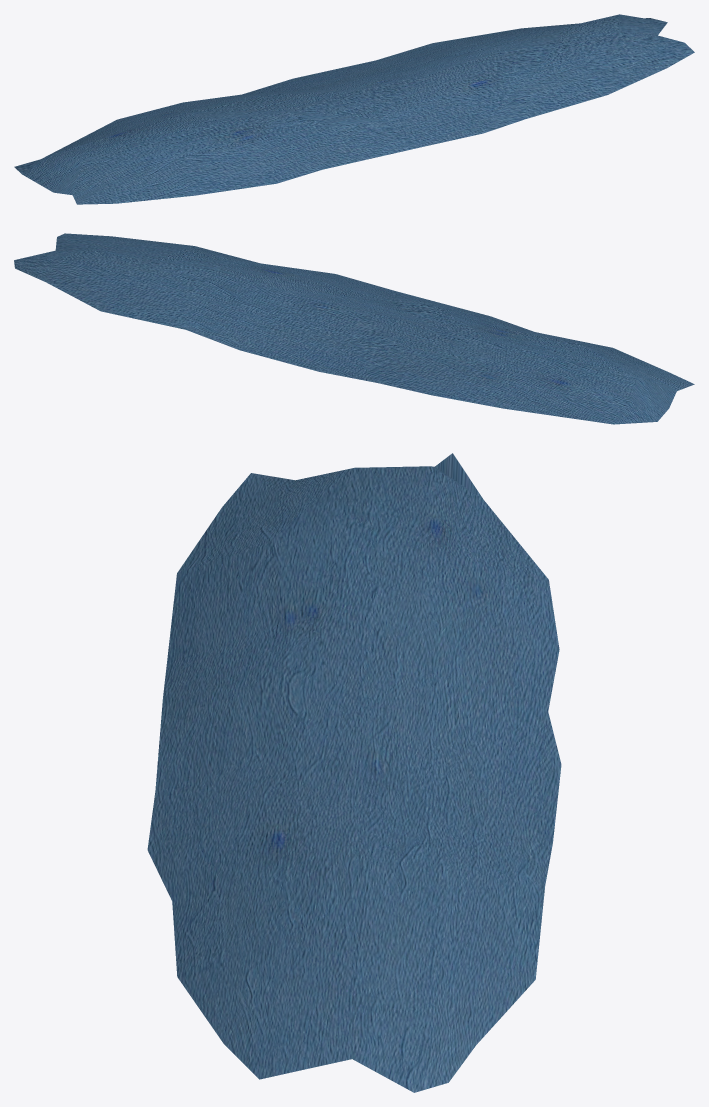
The model's file is CultivateTerrain.fbx.
The picture shows the model from 3 angles, top to bottom: view 1: azimuth 30°, elevation 25°; view 2: azimuth 150°, elevation 25°; view 3: azimuth 270°, elevation 25°; orthographic projection. The views are drawn at different scales.
Parts seen in each view (by area): view 1: Plane; view 2: Plane; view 3: Plane.
Part boxes in pixels (<box>): Plane: <box>14,14,694,204</box>; Plane: <box>14,233,694,424</box>; Plane: <box>147,453,561,1092</box>.
Size of the model in its own units: 772 by 36.27 by 215.
